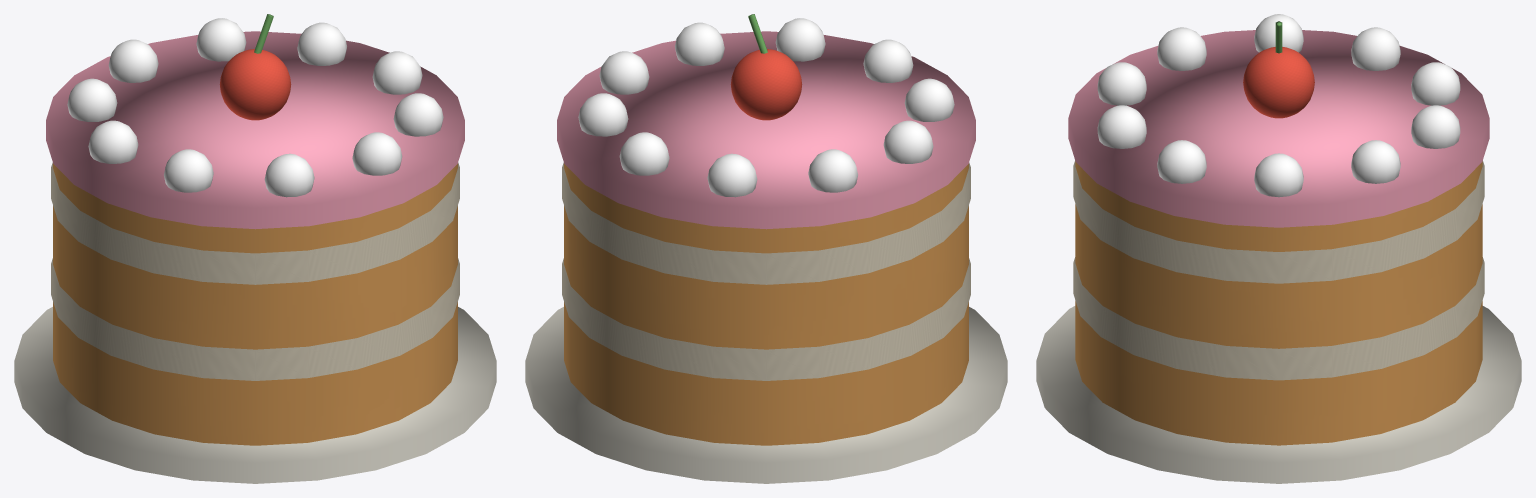
File: CAKE.glb
3 views of the same model, side by side, from view 1: azimuth 30°, elevation 25°; view 2: azimuth 150°, elevation 25°; view 3: azimuth 270°, elevation 25° (orthographic).
Parts seen in each view (by area): view 1: CAKE; view 2: CAKE; view 3: CAKE.
Boxes of the visible parts, x1,y1,x2,y2 form: CAKE: (14, 14, 496, 483); CAKE: (525, 14, 1007, 483); CAKE: (1036, 14, 1521, 483).
Size of the model in its own units: 0.5 by 0.4165 by 0.5.
7 materials, 3 textured.
